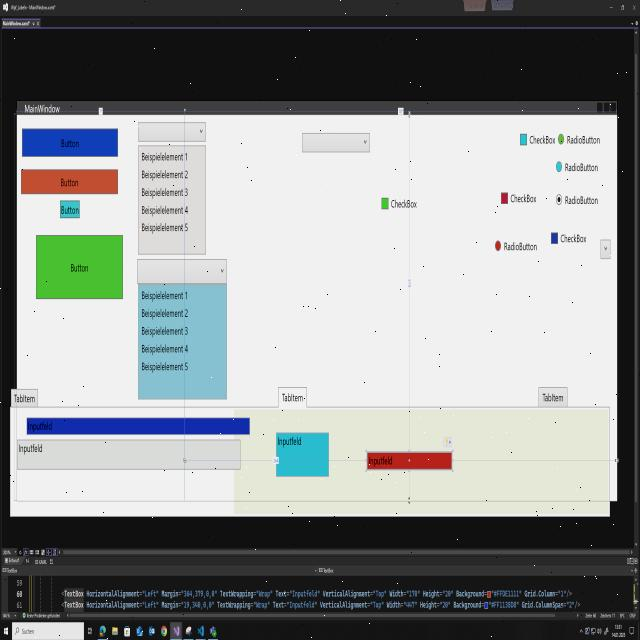button: (36, 234, 124, 300), (21, 126, 119, 160), (20, 167, 119, 196), (59, 200, 81, 220)
checkbox: (550, 231, 559, 246), (519, 132, 528, 146), (500, 192, 509, 206), (382, 196, 389, 210)
dropdownMenu: (136, 258, 228, 402), (138, 120, 206, 256), (301, 130, 372, 154), (600, 238, 612, 260)
input: (16, 437, 242, 472), (25, 415, 252, 437), (275, 430, 330, 479), (366, 448, 454, 474)
label: (565, 162, 599, 173), (503, 242, 538, 252), (560, 232, 587, 244), (529, 134, 557, 145), (565, 196, 599, 205), (566, 135, 600, 144), (510, 193, 537, 204), (391, 199, 417, 209)
menuItem: (140, 288, 190, 303), (141, 186, 189, 200), (141, 221, 188, 235), (141, 343, 190, 356), (141, 150, 189, 163), (141, 326, 190, 338), (141, 204, 189, 216), (141, 169, 189, 181), (141, 361, 189, 373), (142, 307, 190, 319)
radio: (494, 239, 502, 252), (555, 193, 562, 206), (558, 133, 564, 145), (556, 160, 562, 172)
tabControl: (534, 382, 572, 414), (274, 383, 311, 413), (10, 384, 42, 413)
